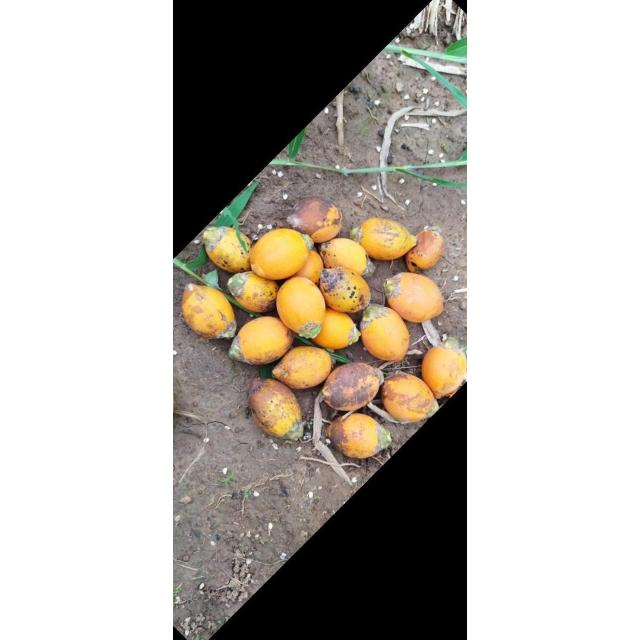good: (246, 378, 304, 439), (181, 284, 235, 340), (276, 276, 326, 336), (384, 273, 444, 323), (230, 317, 292, 365), (326, 412, 392, 456), (360, 304, 410, 362), (321, 362, 381, 410), (380, 374, 438, 422), (248, 231, 308, 275), (272, 346, 332, 390), (422, 342, 466, 400), (318, 267, 372, 313), (288, 196, 342, 242), (358, 218, 417, 260), (227, 270, 280, 314), (204, 227, 252, 273), (310, 308, 360, 350), (317, 238, 369, 278), (404, 226, 444, 272)
